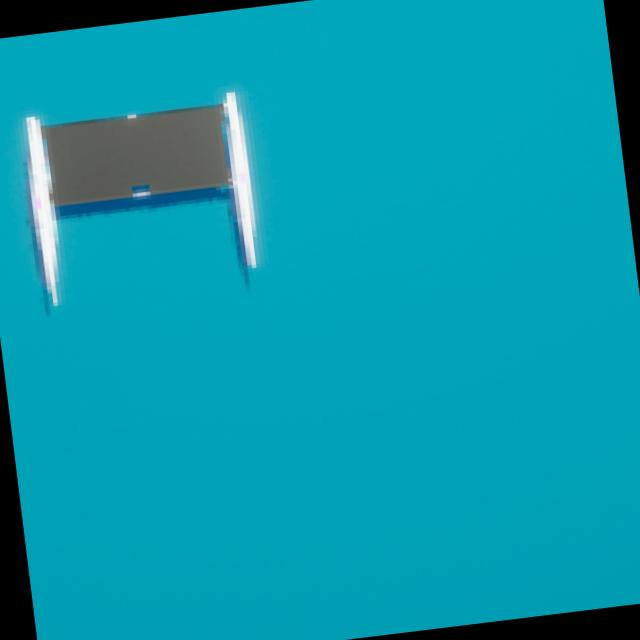boat: (6, 79, 272, 305)
drone: (40, 101, 228, 202)
